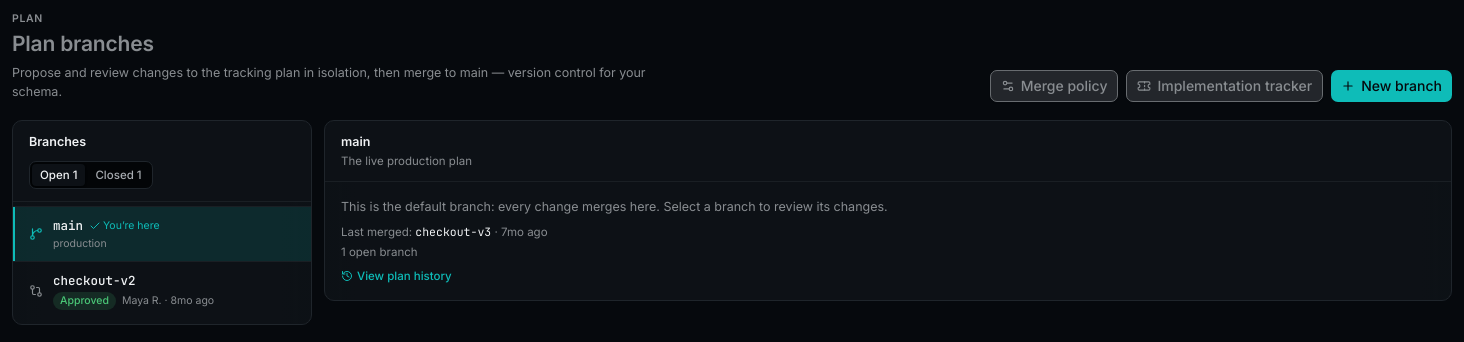
Test: BranchesTab › keeps merged branches out of the active list, behind their own tab
Expected: the text "checkout-v2" is shown, left=53, top=272, right=136, bottom=290
Expected: the text "main" is shown, left=53, top=216, right=83, bottom=234
Click the button "Closed 1": (118, 174) left=87, top=164, right=150, bottom=186
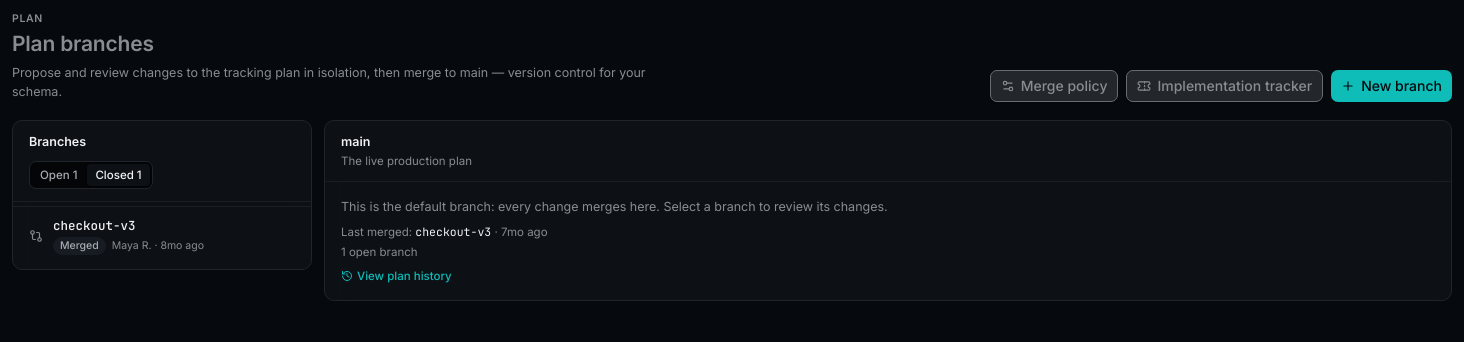
Expected: the text "checkout-v3" is shown, left=53, top=216, right=136, bottom=234
Expected: the button "checkout-v2" is gone
